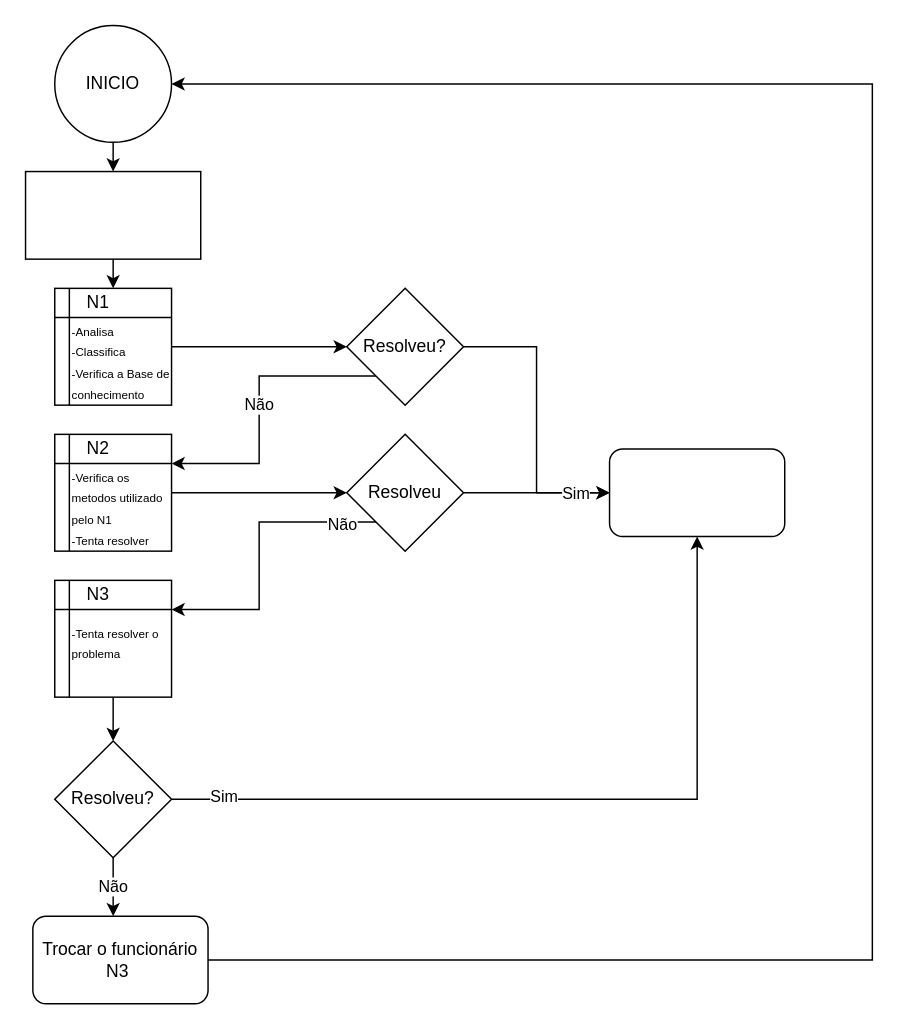
Image size: 910x1029. Some labels were removed from this diagram. The shapes that lost their labels are listed below. From the top down, each one's box as (x1, y1, x2, y2) in pixels, then its label:
(24, 170, 201, 259): Não funciona o alerta de Temperatura
(608, 447, 785, 537): Finalizar
